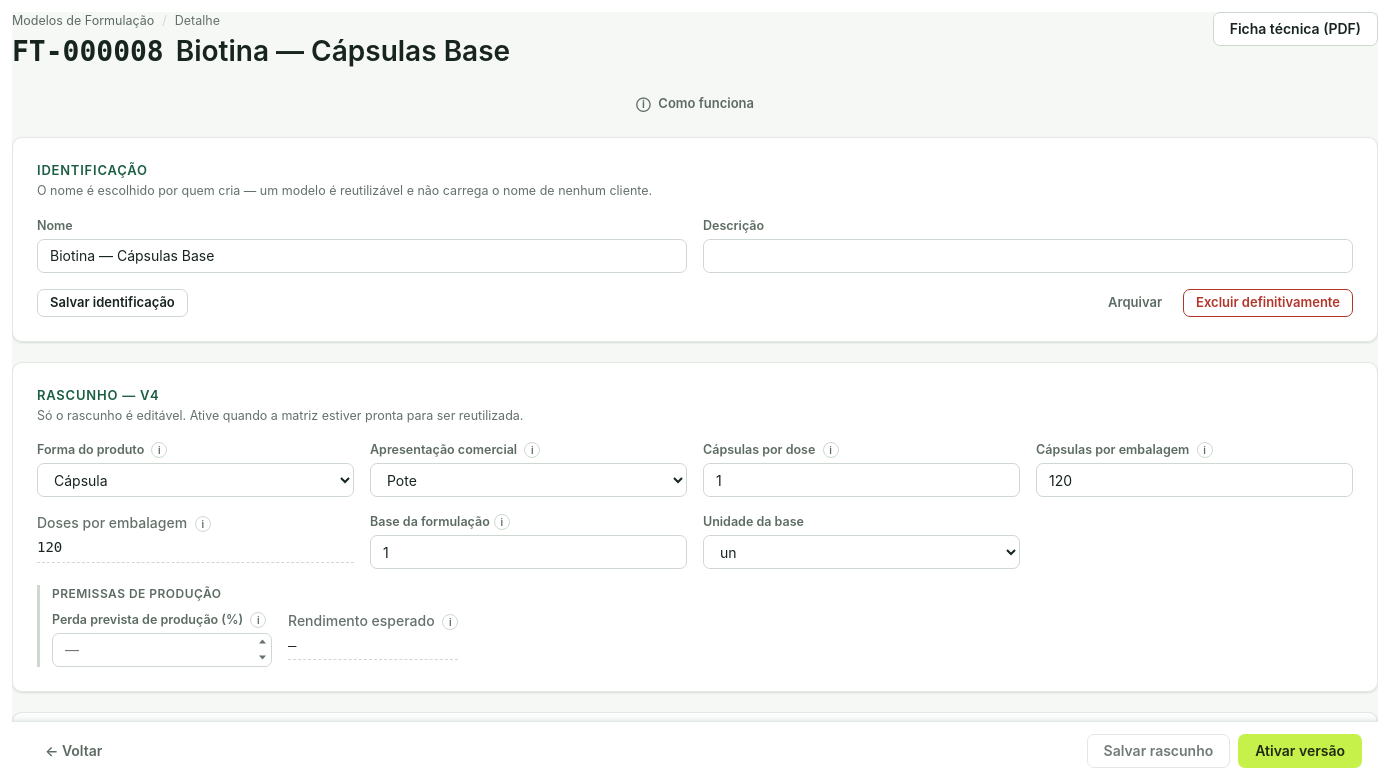
Test case: Bancada do Modelo — perda prevista e rendimento › o rendimento é 100% menos a perda, e acompanha a digitação
The image size is (1390, 780).
Expected: the heading "Rascunho — V4" is shown, [37, 387, 159, 403]
Step 1. Type "4" into the field labelled "Perda prevista de produção (%) i" → coordinates (162, 650), box [52, 633, 272, 667]
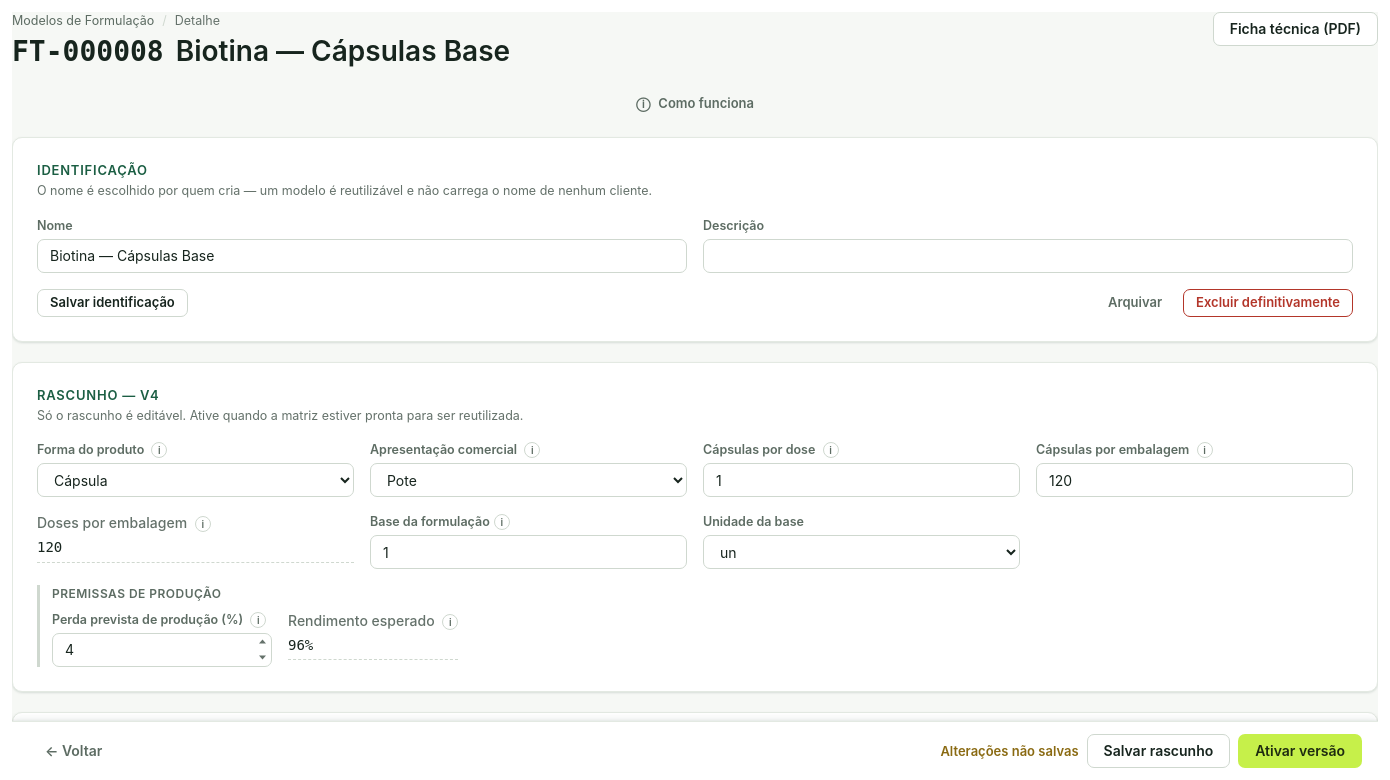
Result: the text with test id "rendimento-esperado" reads "96%" at [288, 637, 313, 653]
